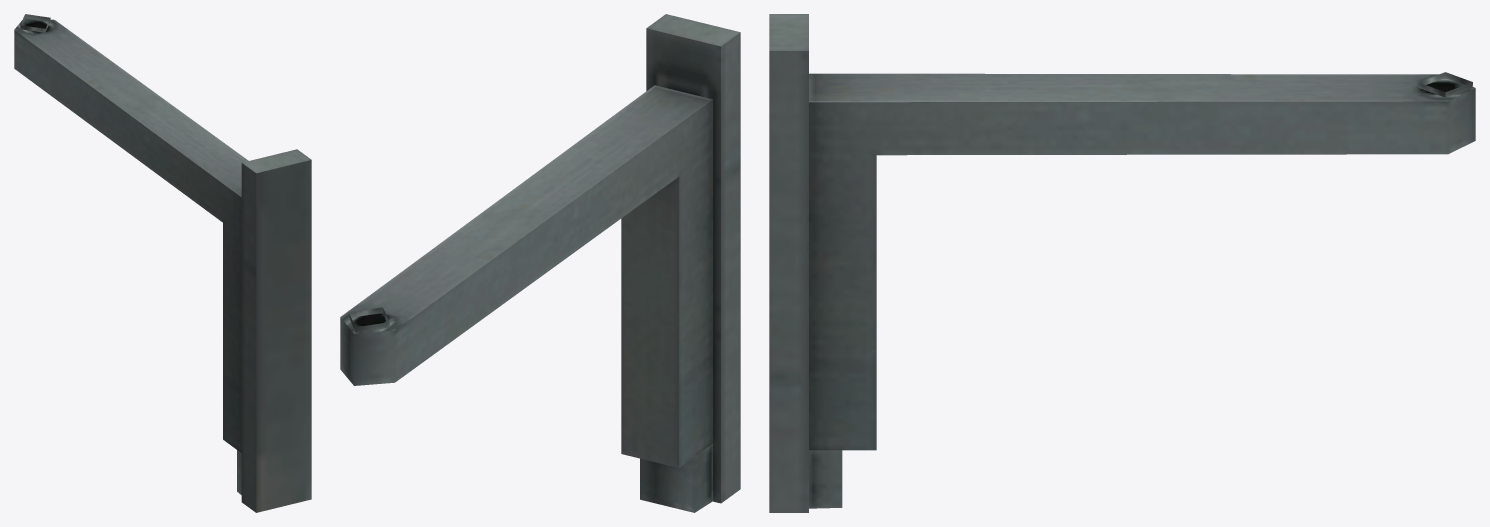
The model's file is paris_bookstore_wall_light_base_lod2.glb.
3 renders of one model, left to right at view 1: azimuth 30°, elevation 25°; view 2: azimuth 150°, elevation 25°; view 3: azimuth 270°, elevation 25°, orthographic. The views are drawn at different scales.
Visible parts, largest first — view 1: surf0; view 2: surf0; view 3: surf0.
Boxes of the visible parts, x1=… form: surf0: x1=14, y1=14, x2=311, y2=512; surf0: x1=340, y1=14, x2=740, y2=512; surf0: x1=769, y1=14, x2=1475, y2=512.
Bounding box in the file's own units: 1.68 × 9.8 × 13.57.
